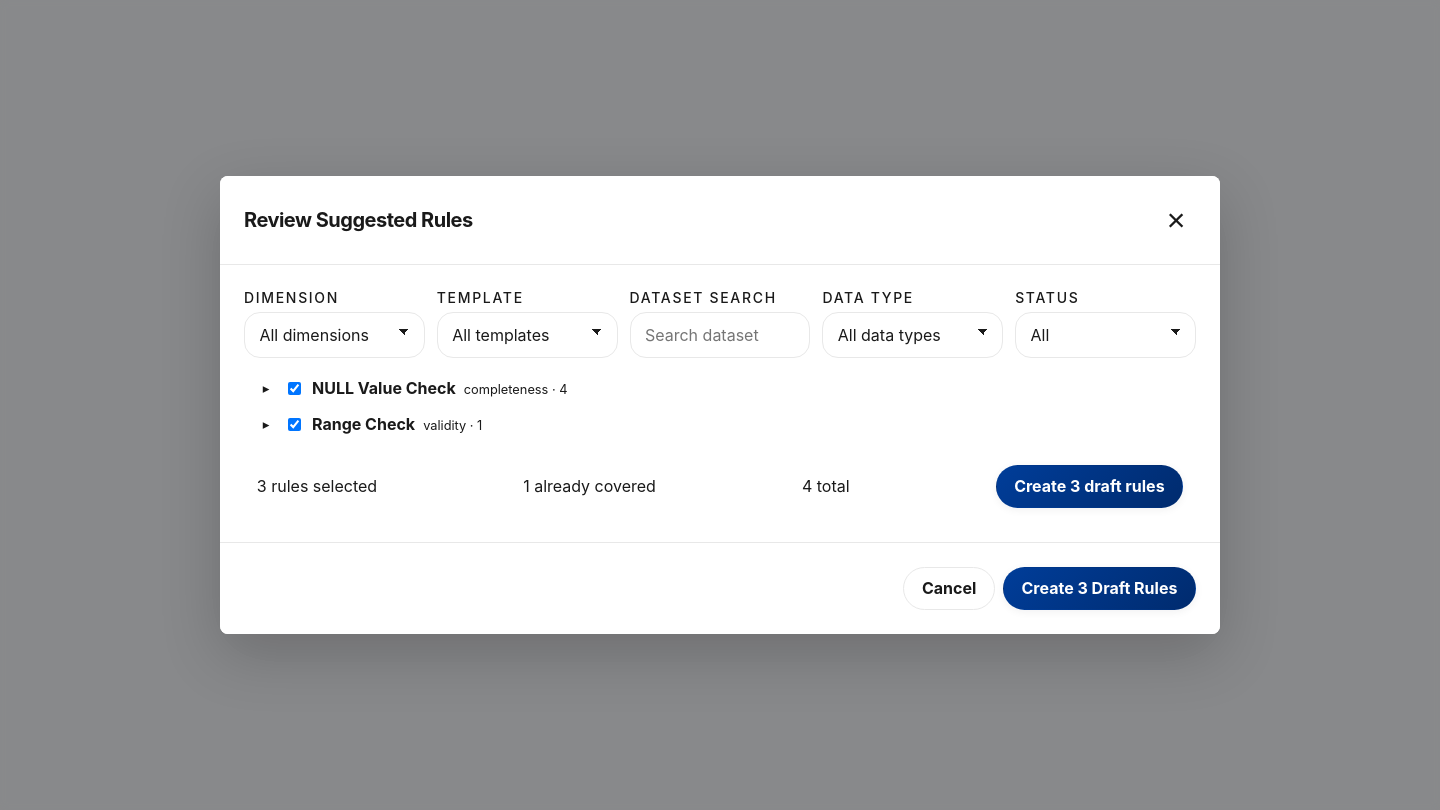
Test: OnboardingRuleReview › supports bulk deselect/select on template level
The image size is (1440, 810).
Click the button named "Expand template group". click: (266, 388)
box: top-left (256, 381), bottom-right (276, 396)
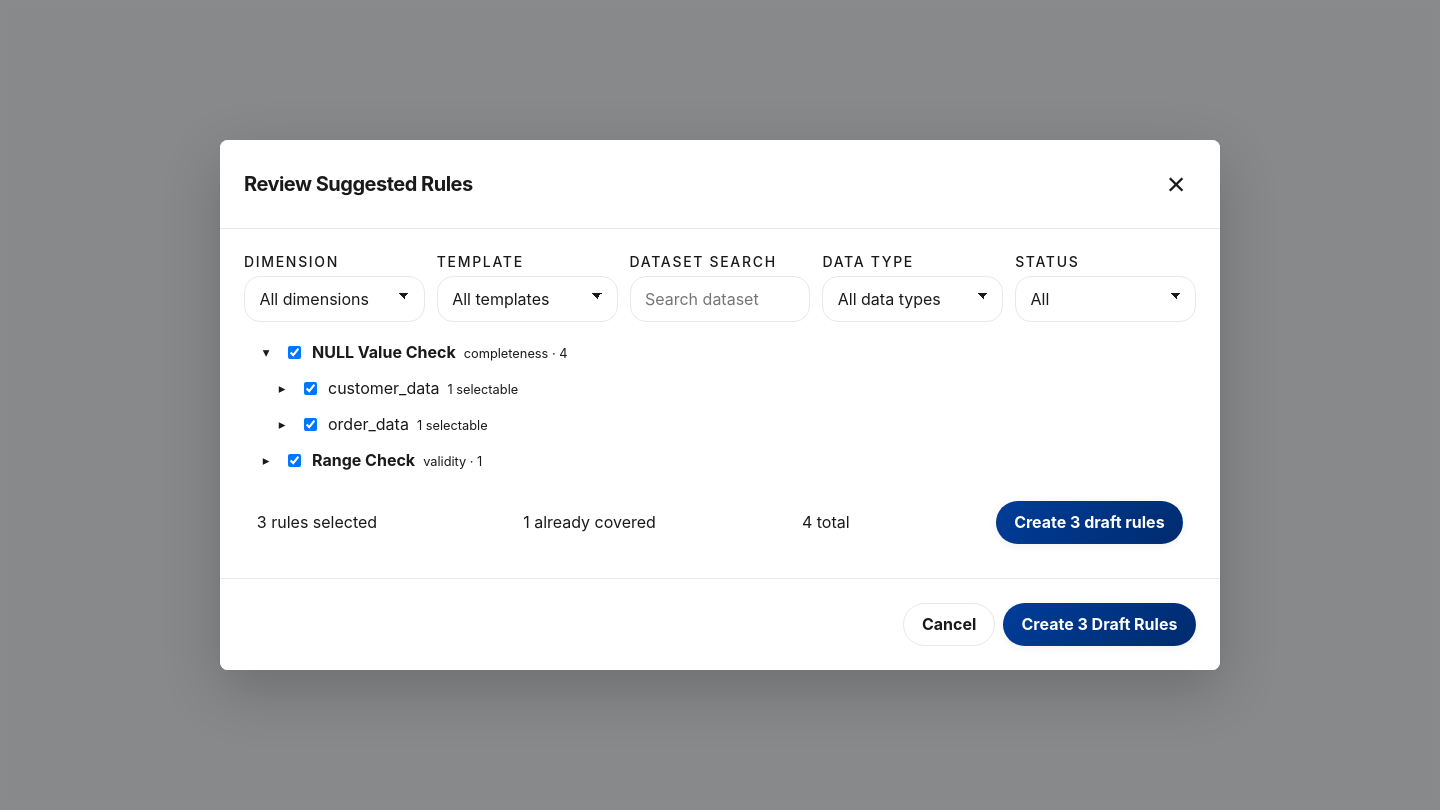
Click the checkbox named "Select template NULL Value Check". click: (294, 352)
box: top-left (288, 346), bottom-right (301, 359)
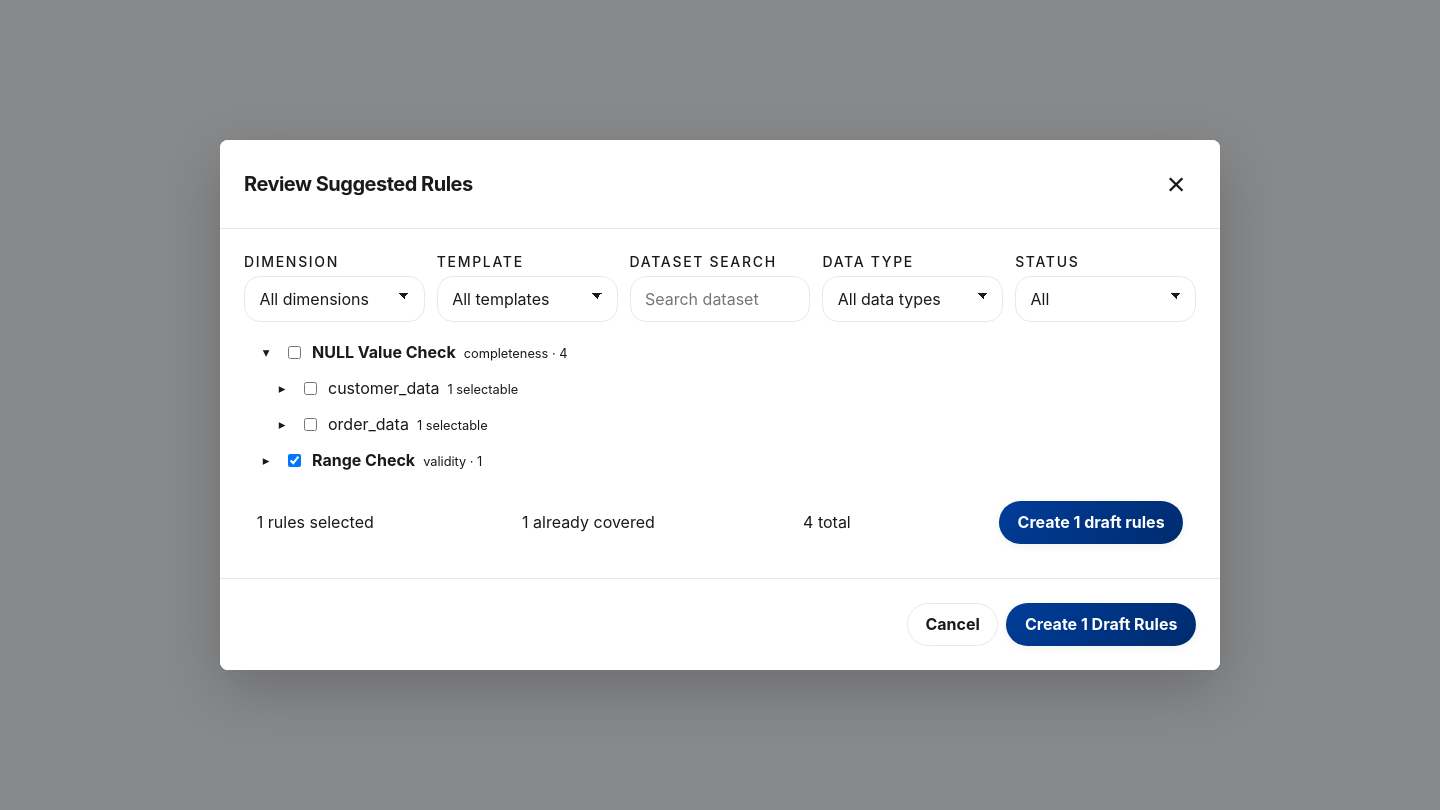
Check: the text "1 rules selected" is shown, box top-left (257, 512), bottom-right (374, 532)
Click the checkbox named "Select template NULL Value Check". click: (294, 352)
box: top-left (288, 346), bottom-right (301, 359)
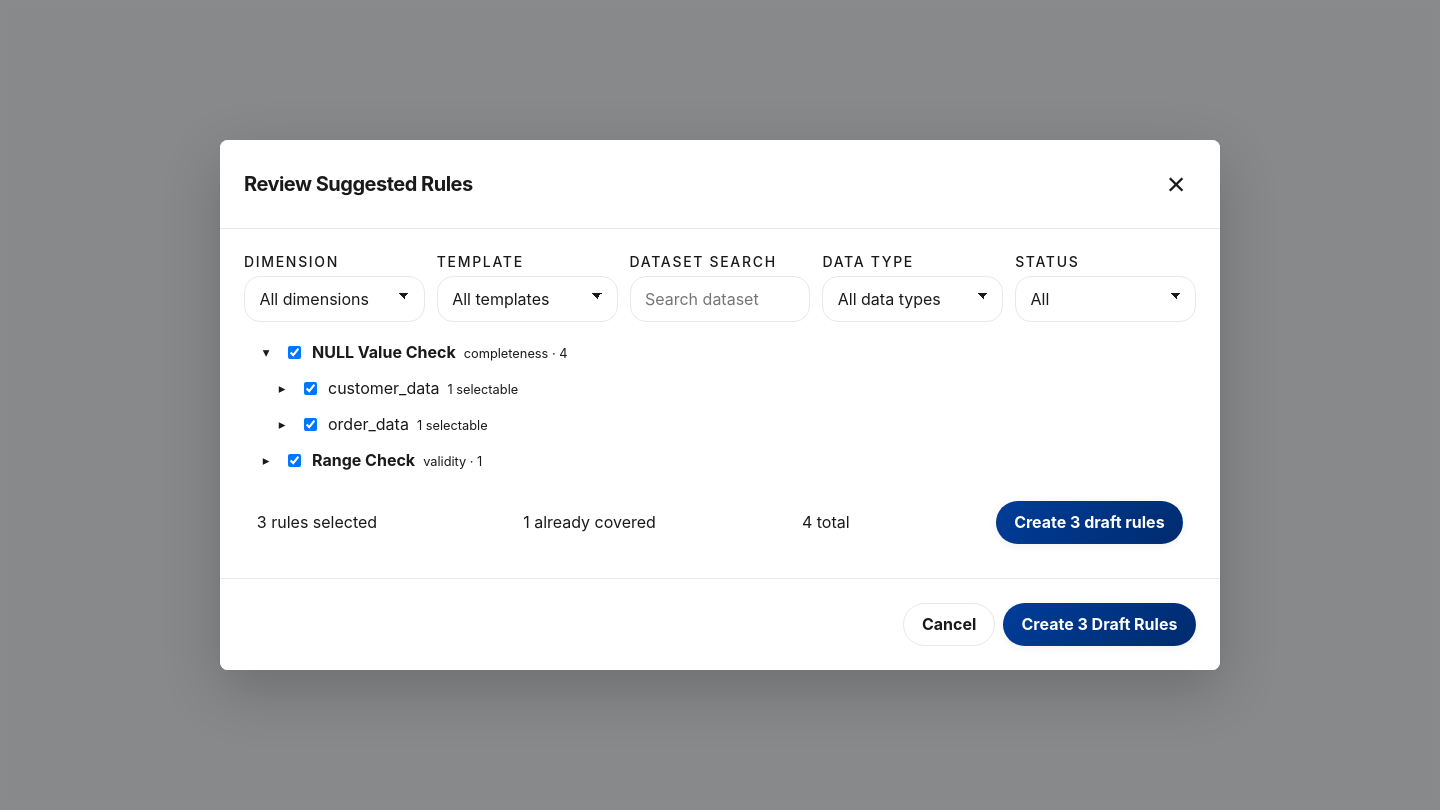
Check: the text "3 rules selected" is shown, box top-left (257, 512), bottom-right (377, 532)
